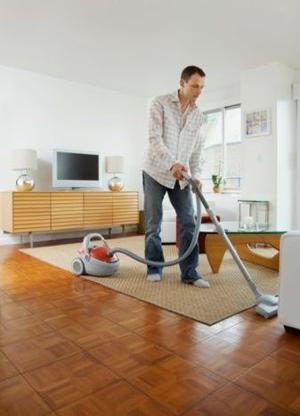person: (142, 66, 212, 290)
